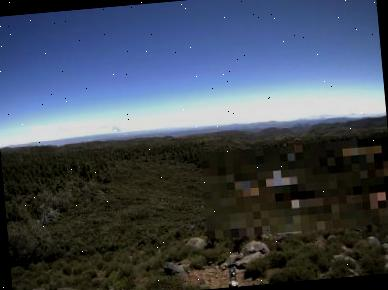smoke: (98, 118, 123, 136)
